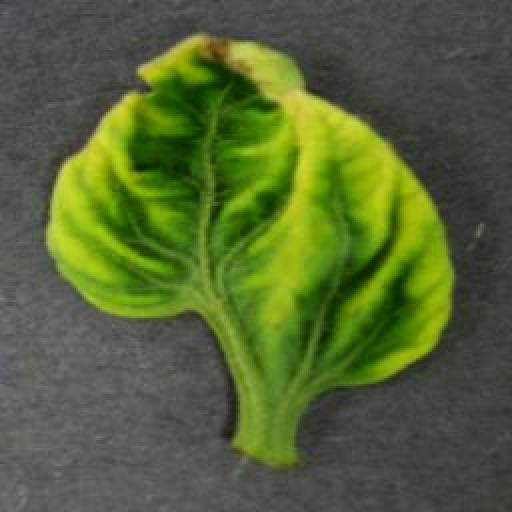disease_tomato: (44, 34, 456, 396)
